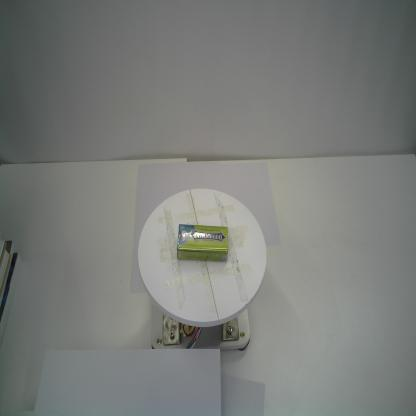Gum: (176, 224, 229, 262)
